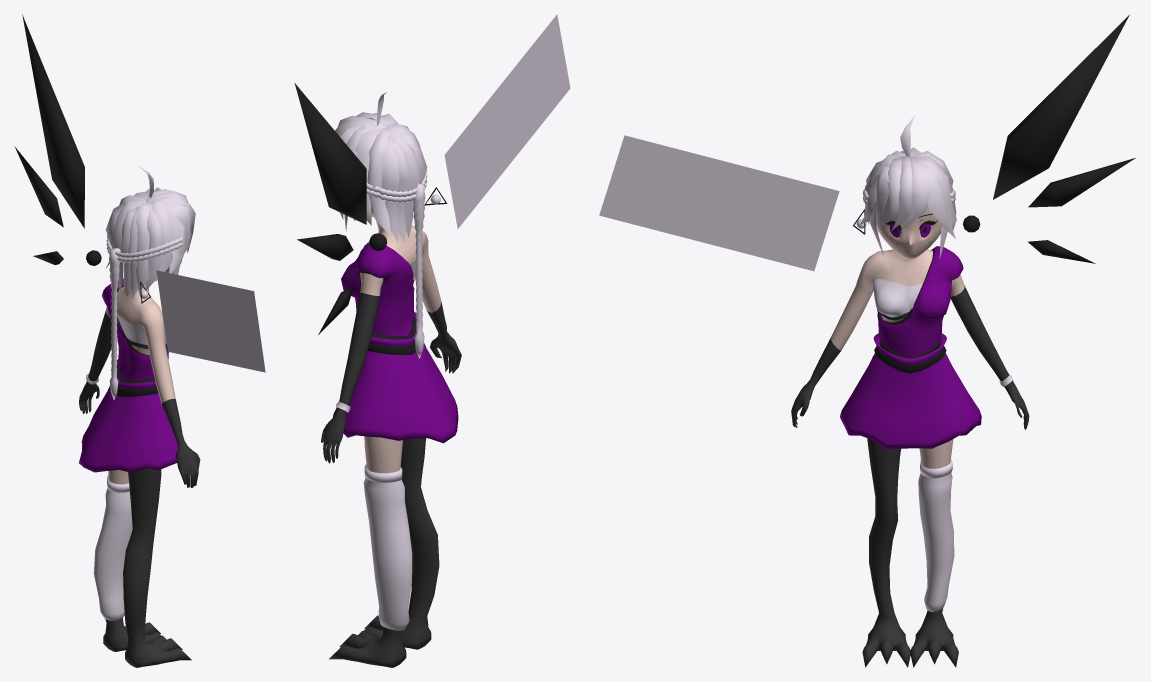
Rendered from MikaNoRig.fbx.
3 renders of one model, left to right at view 1: azimuth 30°, elevation 25°; view 2: azimuth 150°, elevation 25°; view 3: azimuth 270°, elevation 25°, orthographic. The views are drawn at different scales.
Visible parts, largest first — view 1: Cube.043, Cube.084, Cube.089, Cube.076, Cube.079, Cube.085, Cube.106, Cube.078, Cube.080, Cube.087, Cube.091; view 2: Cube.043, Cube.084, Cube.089, Cube.076, Cube.085, Cube.079, Cube.106, Cube.078, Cube.080, Cube.090, Cube.081; view 3: Cube.084, Cube.043, Cube.089, Cube.076, Cube.079, Cube.106, Cube.085, Cube.080, Cube.087.
Part boxes in pixels (box(x1,y1,x2,y2)): Cube.043: box(79, 258, 200, 667); Cube.084: box(156, 270, 265, 372); Cube.089: box(79, 359, 177, 472); Cube.076: box(105, 165, 195, 298); Cube.079: box(22, 15, 84, 228); Cube.085: box(93, 475, 132, 620); Cube.106: box(102, 279, 168, 380); Cube.078: box(109, 248, 120, 400); Cube.080: box(14, 146, 63, 227); Cube.087: box(117, 315, 166, 349); Cube.091: box(106, 236, 183, 258); Cube.043: box(321, 184, 461, 667); Cube.084: box(444, 14, 570, 228); Cube.089: box(333, 311, 458, 443); Cube.076: box(335, 92, 427, 242); Cube.085: box(363, 464, 412, 630); Cube.079: box(294, 83, 366, 224); Cube.106: box(341, 242, 414, 335); Cube.078: box(413, 183, 425, 358); Cube.080: box(297, 234, 353, 260); Cube.090: box(368, 341, 415, 354); Cube.081: box(318, 286, 353, 334); Cube.084: box(599, 135, 839, 271); Cube.043: box(791, 205, 1029, 667); Cube.089: box(840, 333, 981, 449); Cube.076: box(859, 115, 956, 259); Cube.079: box(993, 14, 1129, 199); Cube.106: box(877, 246, 963, 357); Cube.085: box(918, 459, 954, 611); Cube.080: box(1028, 158, 1135, 207); Cube.087: box(872, 279, 922, 320).
Bounding box in the file's own units: 283 × 1473 × 1144.
